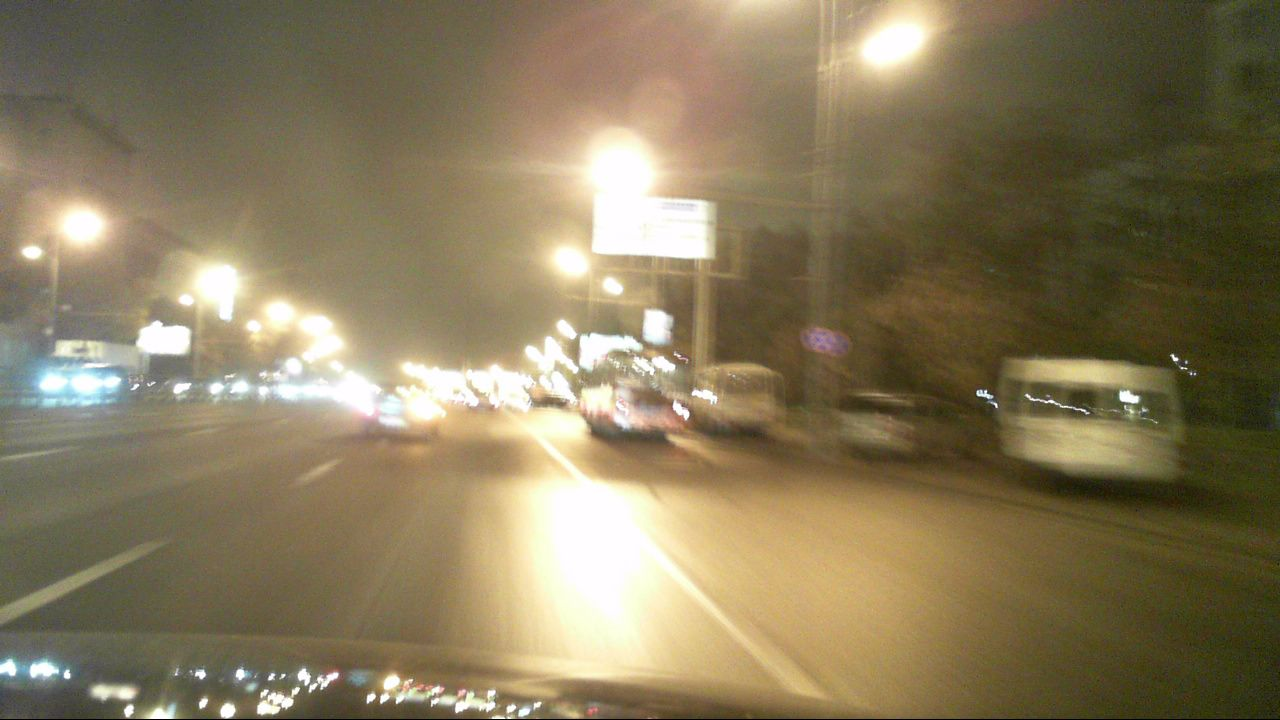No Parking: (809, 327, 836, 353)
